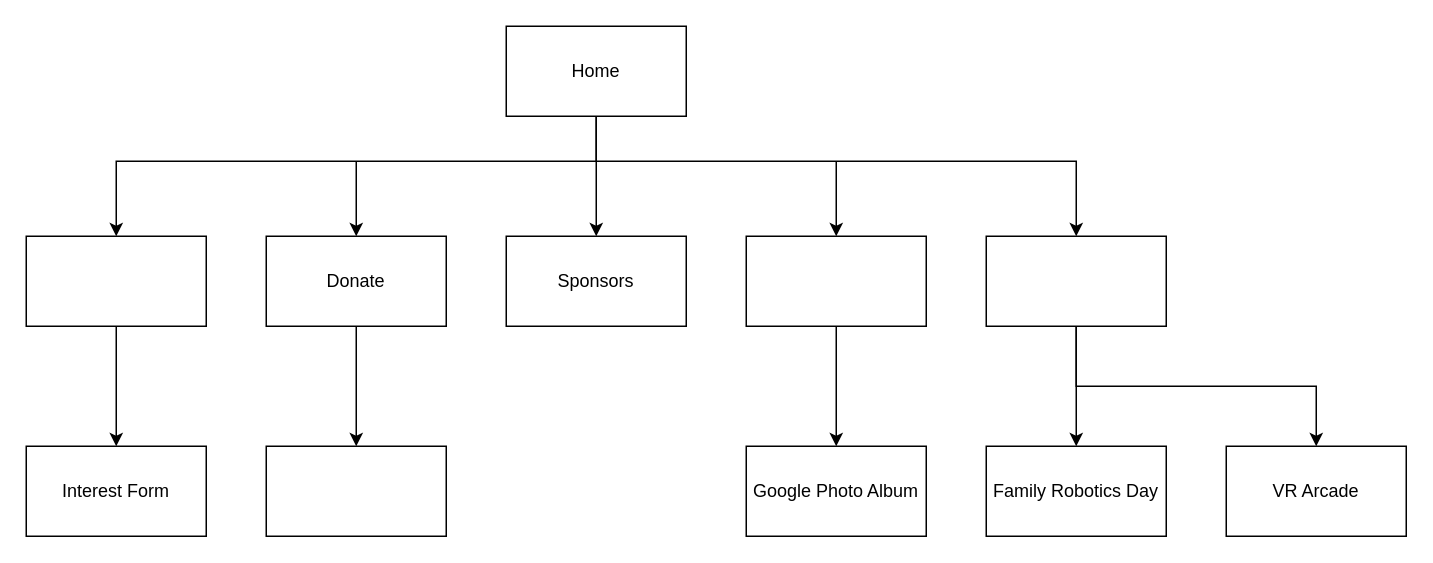
The diagram is 1433 pixels wide and 563 high, and some of its shapes have lost their labels. Each missing label, with the centre of its shape:
"Events" belongs at (1075,280).
"GoFundMe" belongs at (355,490).
"Handbook" belongs at (115,280).
"Photos" belongs at (835,280).
